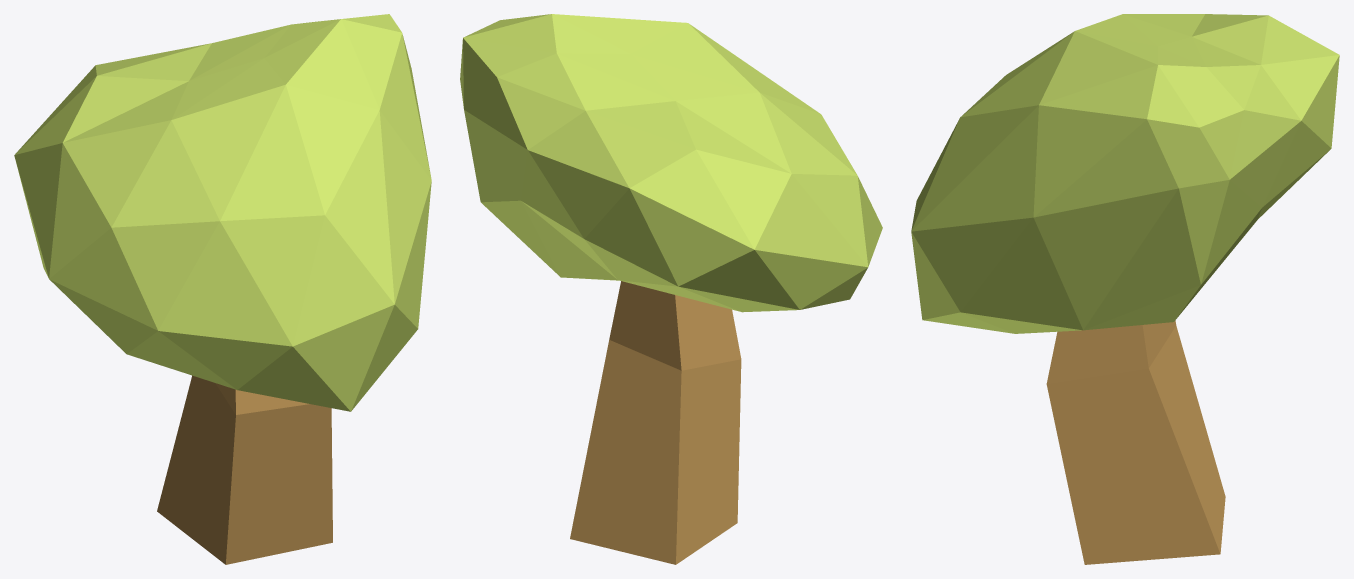
The model's file is Tree_5.glb.
The picture shows the model from 3 angles, left to right: view 1: azimuth 30°, elevation 25°; view 2: azimuth 150°, elevation 25°; view 3: azimuth 270°, elevation 25°; orthographic projection. The views are drawn at different scales.
Parts seen in each view (by area): view 1: Tree_5; view 2: Tree_5; view 3: Tree_5.
Boxes of the visible parts, <box> form: Tree_5: <box>14,14,431,564</box>; Tree_5: <box>460,14,882,564</box>; Tree_5: <box>911,14,1339,564</box>.
Bounding box in the file's own units: 4.72 × 5.78 × 4.3.
